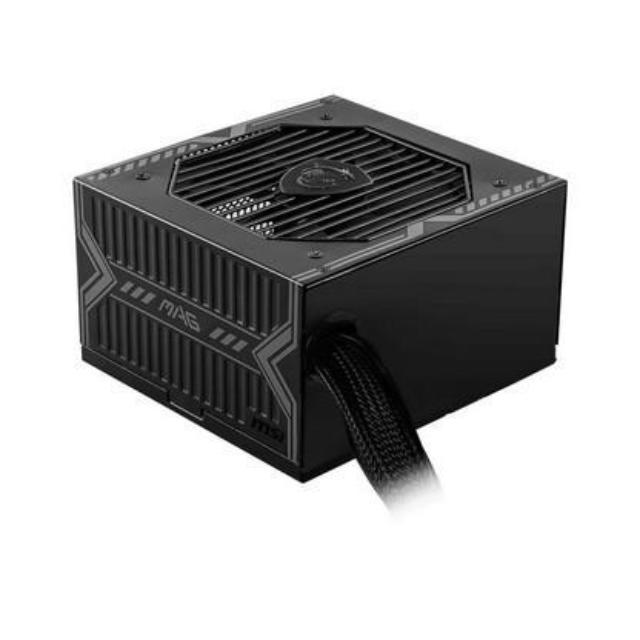PSU: (67, 78, 573, 502)
